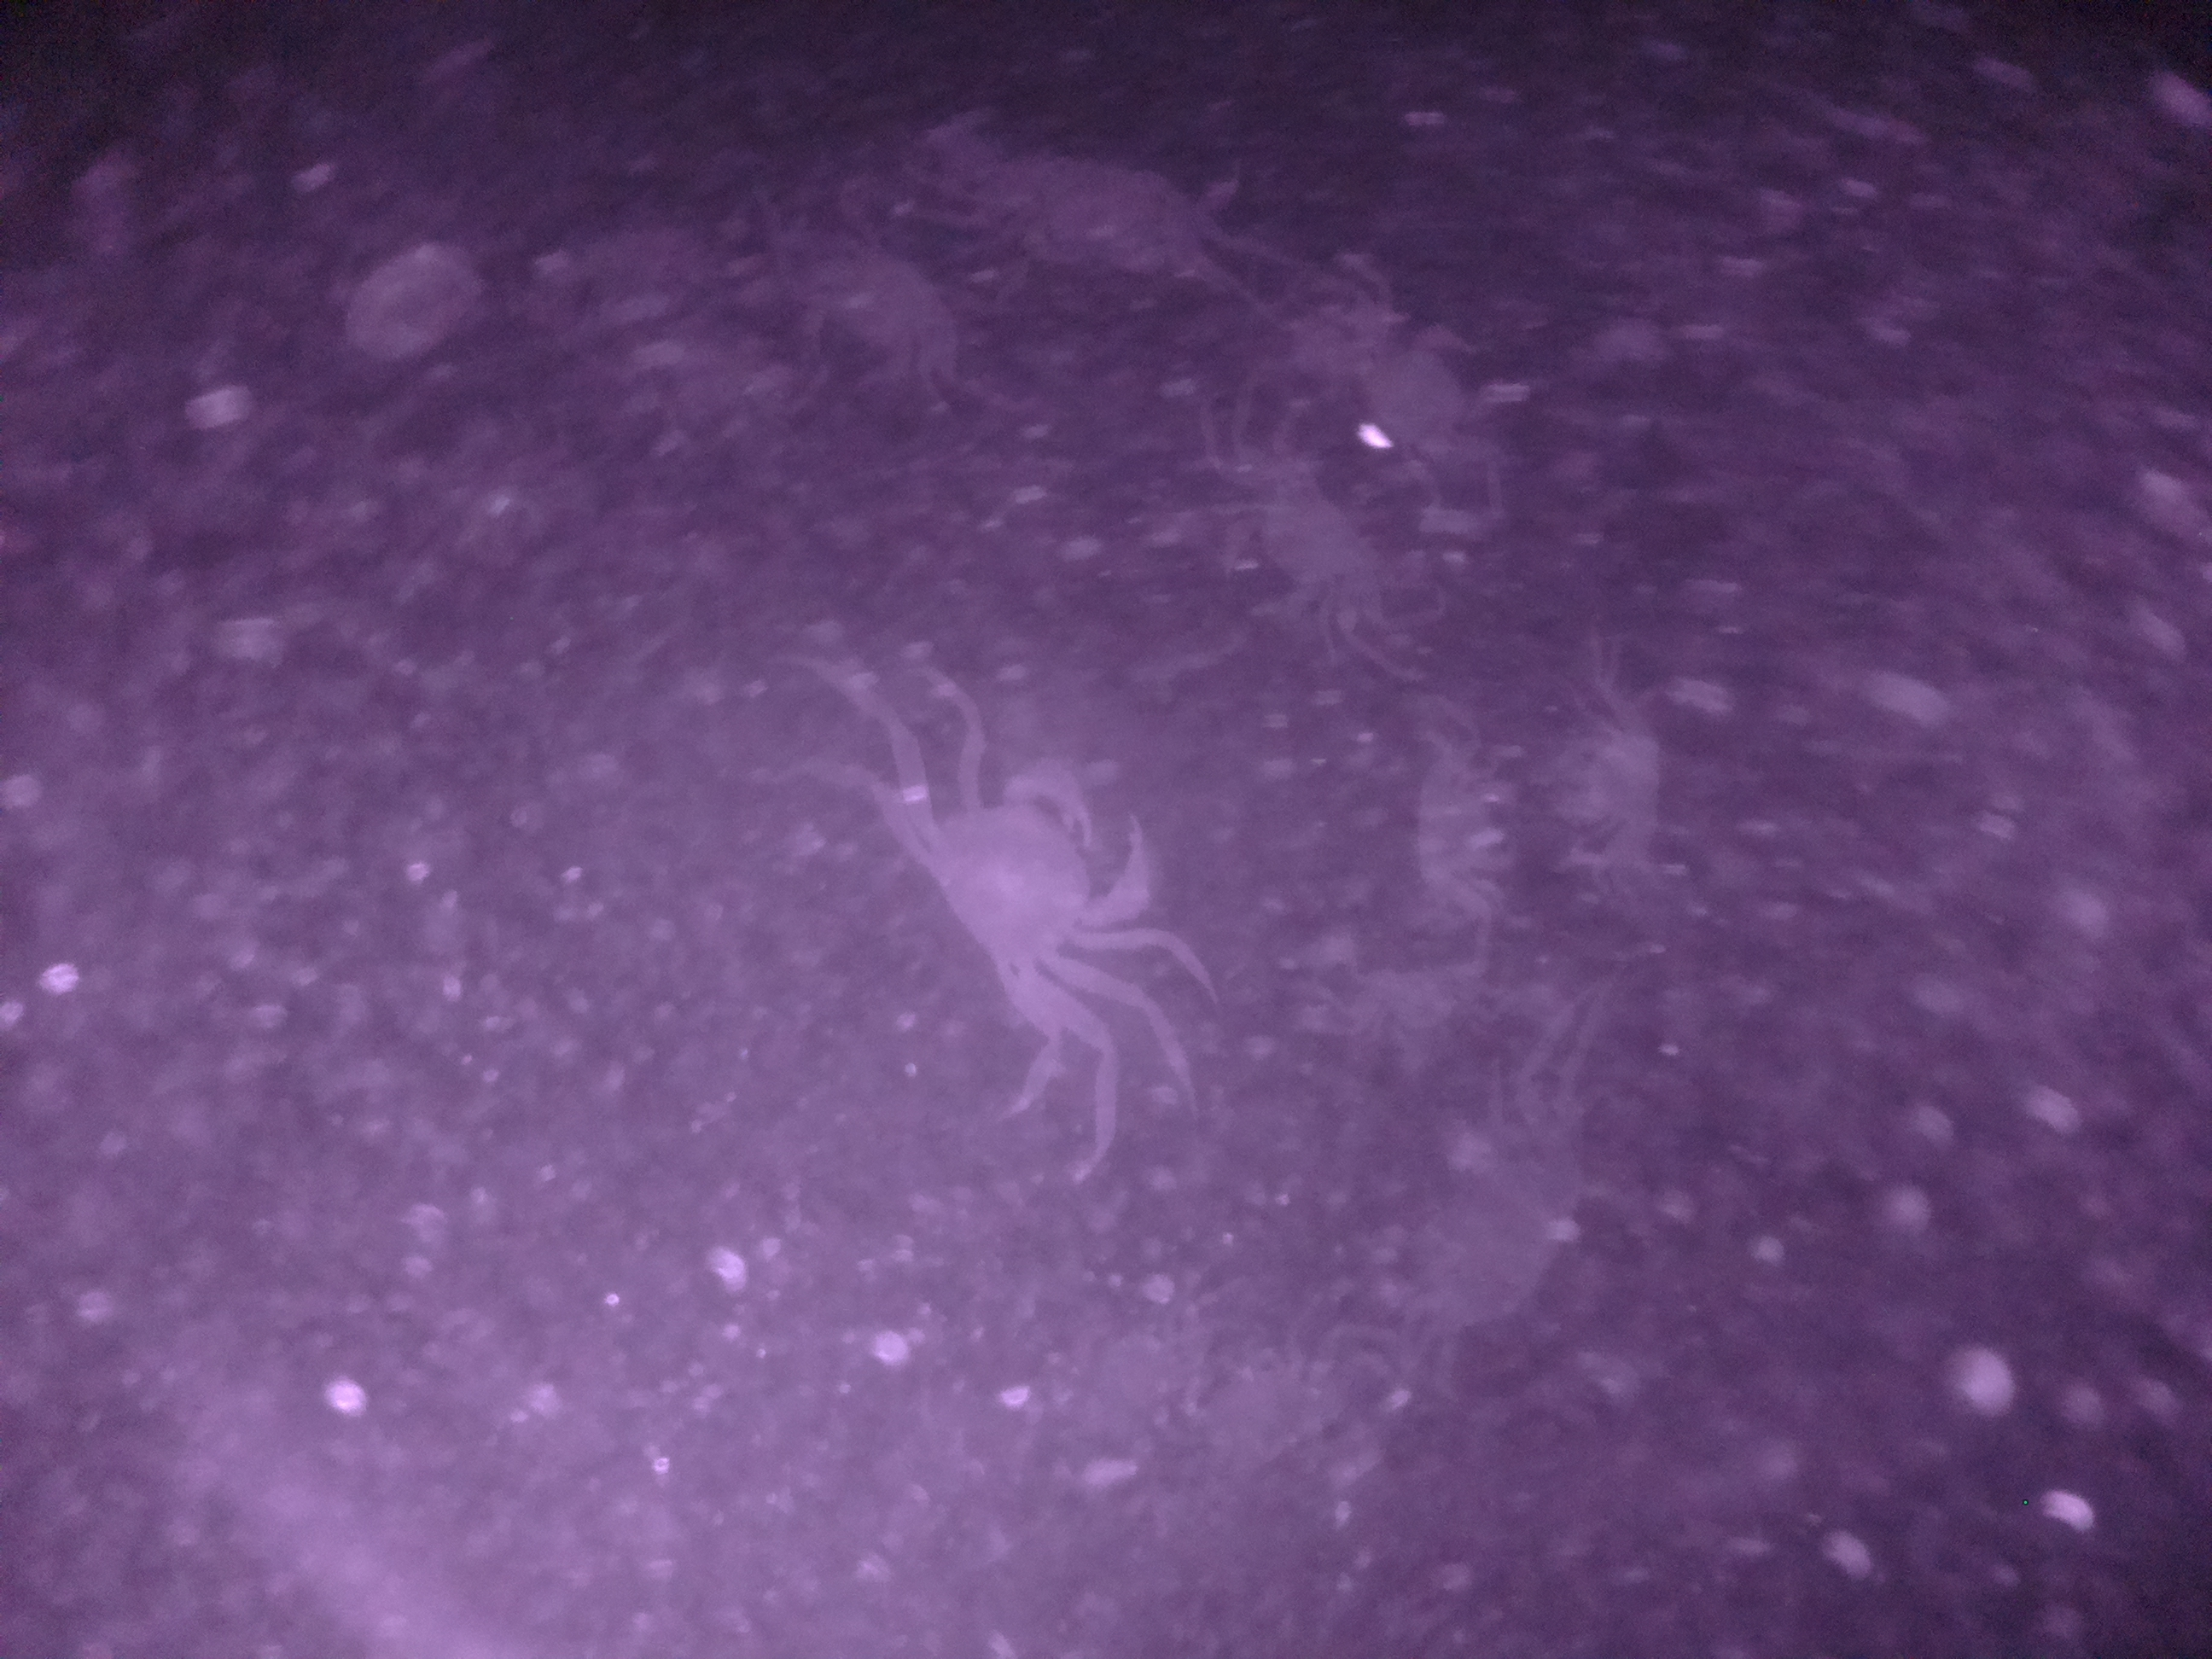Crab: (880, 728, 1162, 1047), (1214, 464, 1397, 660), (1400, 741, 1531, 932)
